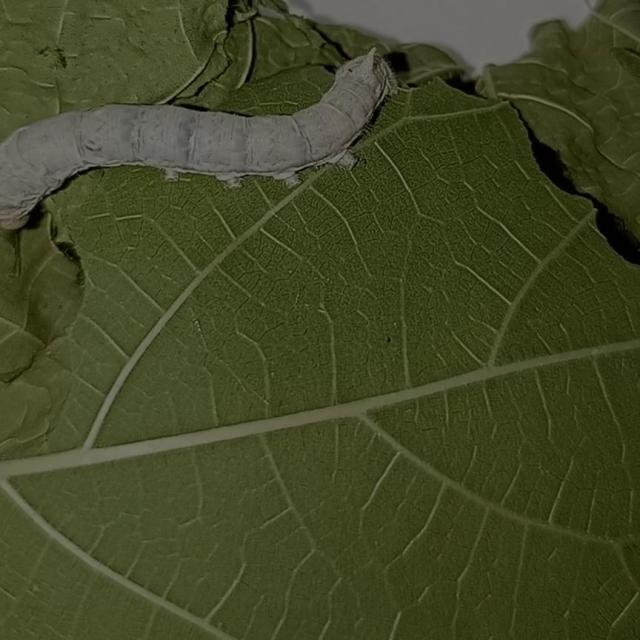Healthy: (0, 47, 406, 233)
